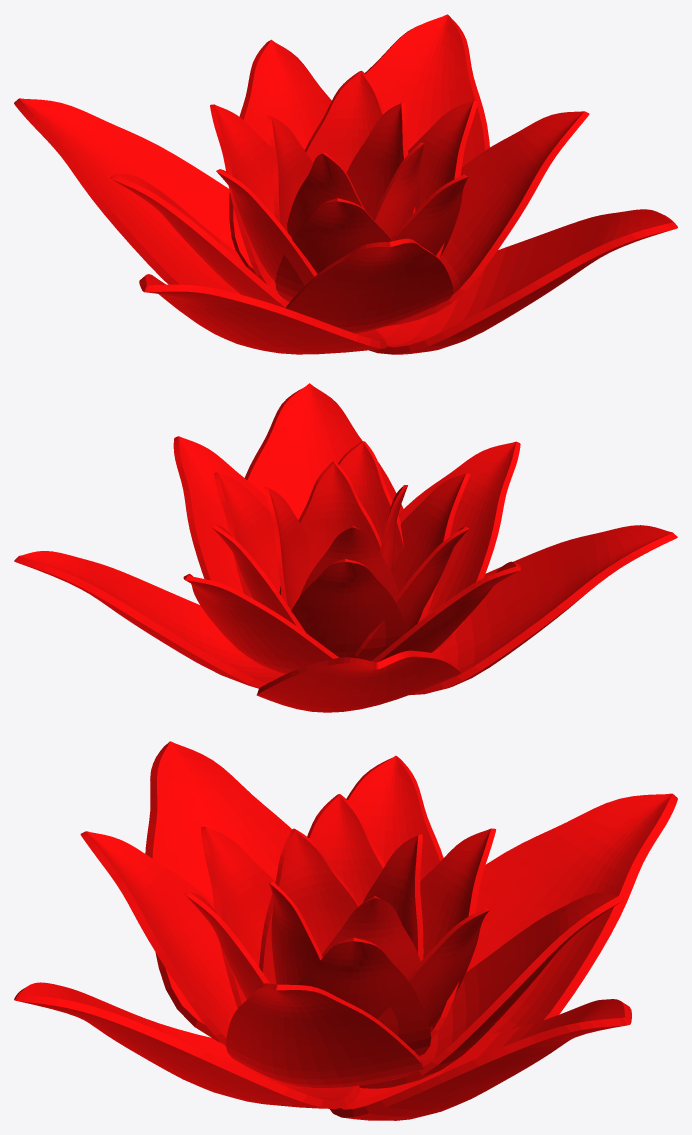
The model's file is REDLOTUS.fbx.
3 views of the same model, one above another, from view 1: azimuth 30°, elevation 25°; view 2: azimuth 150°, elevation 25°; view 3: azimuth 270°, elevation 25° (orthographic). The views are drawn at different scales.
Visible parts, largest first — view 1: Plane.004, Plane.002, Plane.010, Plane.007, Plane, Plane.003, Plane.009, Plane.015, Plane.013, Plane.008, Plane.012, Plane.018 (+6 smaller); view 2: Plane.003, Plane, Plane.002, Plane.004, Plane.007, Plane.013, Plane.009, Plane.010, Plane.017, Plane.015, Plane.011, Plane.008 (+6 smaller); view 3: Plane.004, Plane.010, Plane.003, Plane.007, Plane.002, Plane, Plane.009, Plane.011, Plane.020, Plane.008, Plane.015, Plane.013 (+6 smaller).
Boxes of the visible parts, left/top/right/bottom form: Plane.004: left=14, top=98, right=240, bottom=294; Plane.002: left=369, top=209, right=677, bottom=354; Plane.010: left=385, top=111, right=589, bottom=326; Plane.007: left=286, top=238, right=453, bottom=333; Plane: left=365, top=14, right=489, bottom=166; Plane.003: left=139, top=274, right=386, bottom=354; Plane.009: left=229, top=39, right=331, bottom=274; Plane.015: left=275, top=198, right=392, bottom=302; Plane.013: left=210, top=104, right=288, bottom=302; Plane.008: left=110, top=174, right=288, bottom=308; Plane.012: left=304, top=70, right=384, bottom=172; Plane.018: left=346, top=102, right=415, bottom=218; Plane.003: left=409, top=525, right=677, bottom=695; Plane: left=14, top=551, right=284, bottom=688; Plane.002: left=244, top=383, right=403, bottom=519; Plane.004: left=256, top=650, right=460, bottom=712; Plane.007: left=398, top=441, right=520, bottom=650; Plane.013: left=291, top=558, right=407, bottom=657; Plane.009: left=183, top=573, right=338, bottom=674; Plane.010: left=173, top=436, right=269, bottom=593; Plane.017: left=279, top=461, right=381, bottom=596; Plane.015: left=392, top=473, right=470, bottom=626; Plane.011: left=214, top=472, right=280, bottom=598; Plane.008: left=371, top=561, right=520, bottom=662; Plane.004: left=466, top=793, right=677, bottom=1035; Plane.010: left=226, top=983, right=423, bottom=1087; Plane.003: left=145, top=741, right=291, bottom=1044; Plane.007: left=80, top=831, right=237, bottom=1045; Plane.002: left=14, top=982, right=360, bottom=1108; Plane: left=330, top=999, right=631, bottom=1120; Plane.009: left=359, top=893, right=624, bottom=1088; Plane.011: left=297, top=937, right=431, bottom=1056; Plane.020: left=259, top=828, right=359, bottom=984; Plane.008: left=346, top=755, right=443, bottom=880; Plane.015: left=201, top=826, right=275, bottom=1008; Plane.013: left=420, top=828, right=495, bottom=1038.
Bounding box in the file's own units: 504 × 185 × 503.
